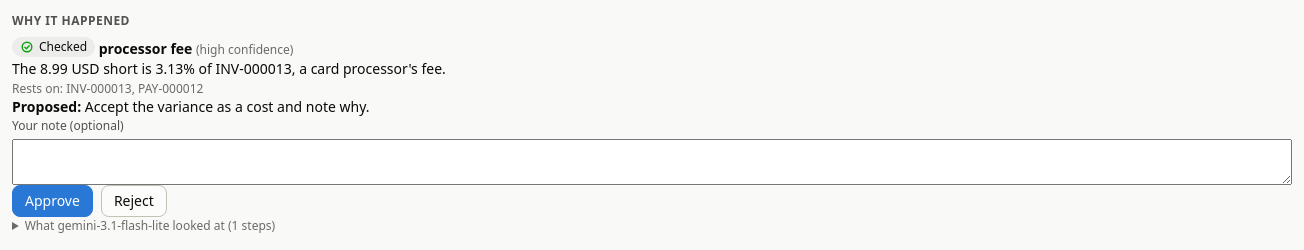
it: InvestigationSection › sends the decision with the person's note and the case version, then says what was done
The width and height of the screenshot is (1304, 250).
Type "agreed with finance" into the text box.
click(652, 162); type("agreed with finance")  # box [12,139,1292,185]
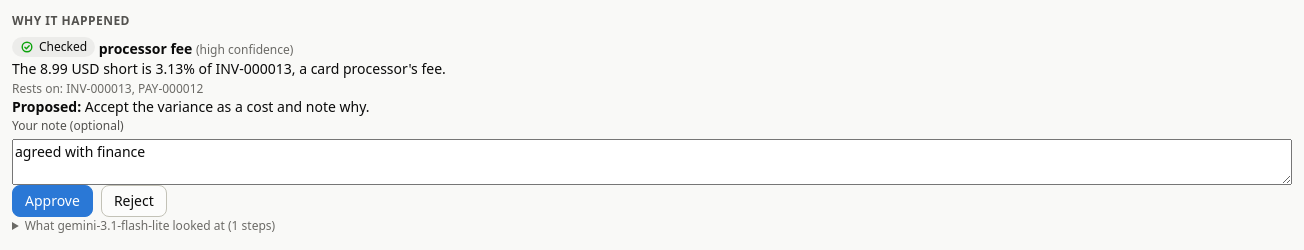
Click the button "Approve".
click(52, 201)  # box [12,185,93,217]
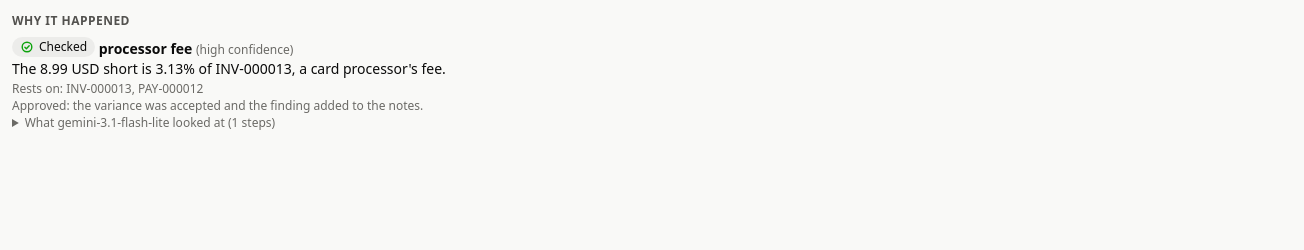
Result: the text "Approved: the variance was accepted and the finding added to the notes." is shown at [12,97,423,114]
